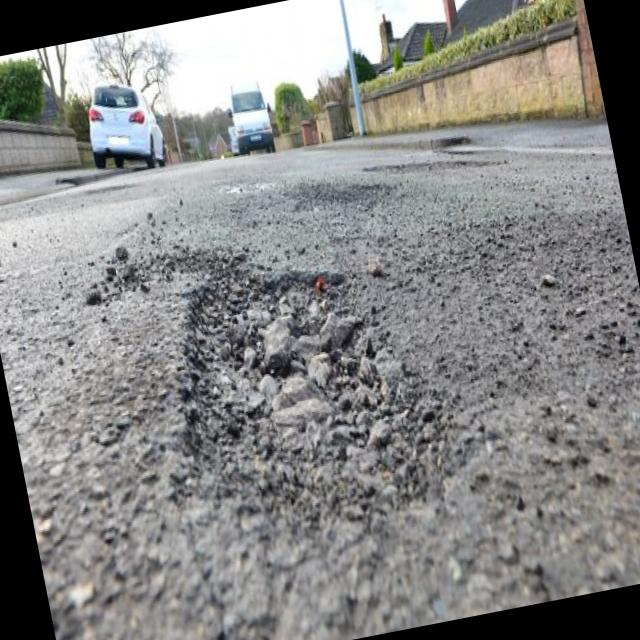Potholes: (72, 147, 472, 626)
